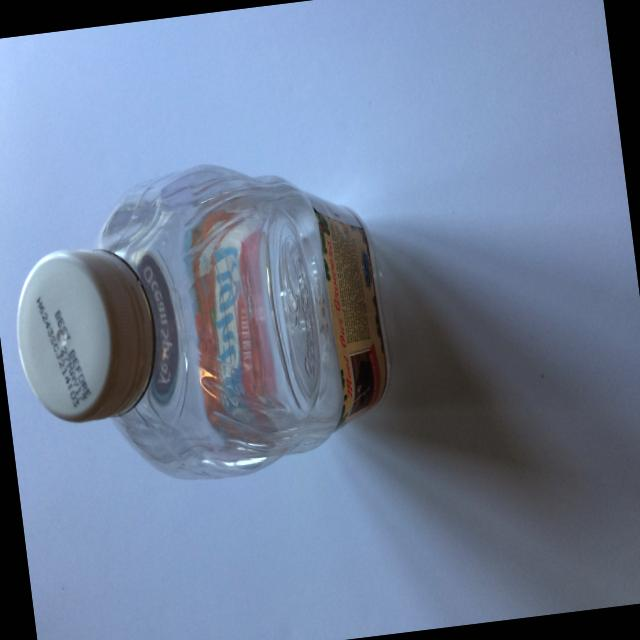Plastic: (0, 123, 438, 520)
